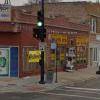Traffic light: (23, 8, 54, 54)
